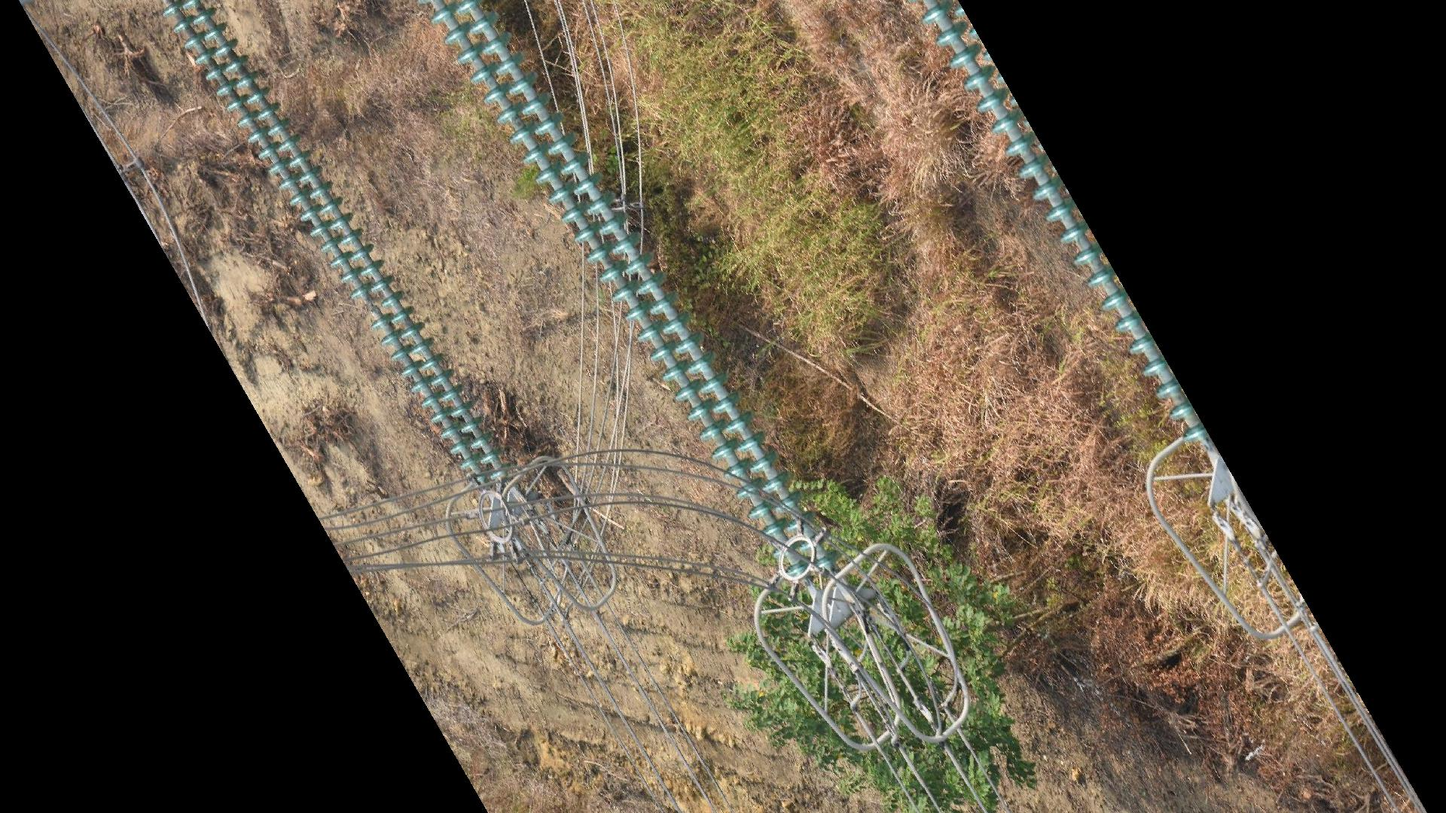insulator: (421, 1, 845, 580), (154, 1, 516, 491), (915, 1, 1221, 458)
insulator_stringdrop: (349, 279, 397, 332)
